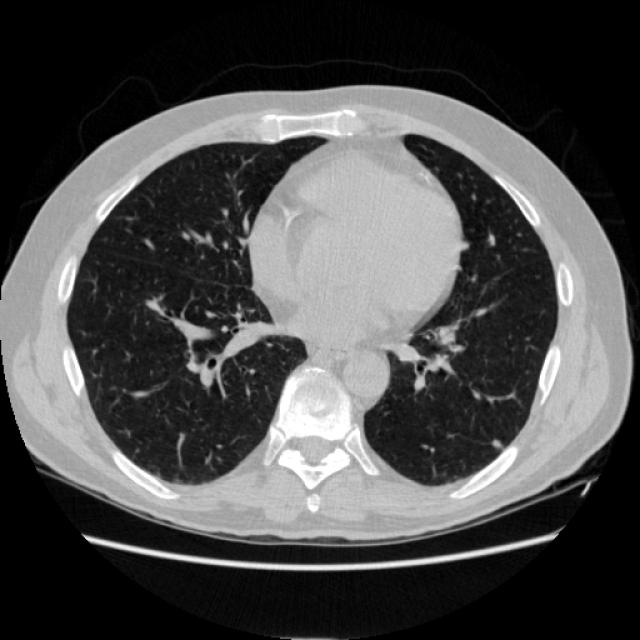nodule: (486, 432, 506, 452)
